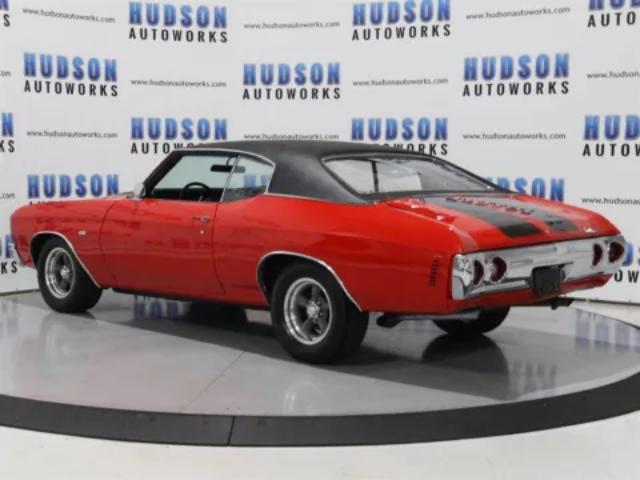chevelle-1972: (9, 140, 627, 363)
